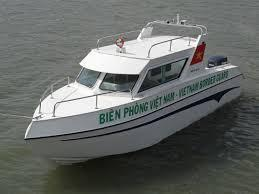Ship: (25, 22, 241, 165)
